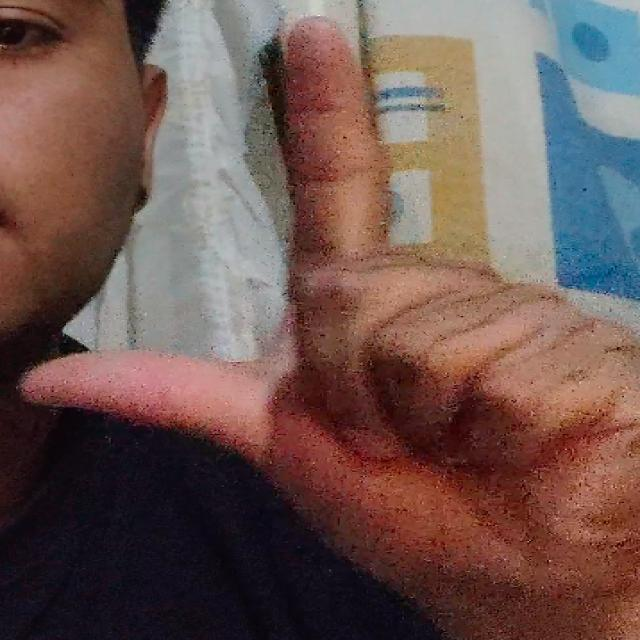LL: (16, 11, 639, 617)
